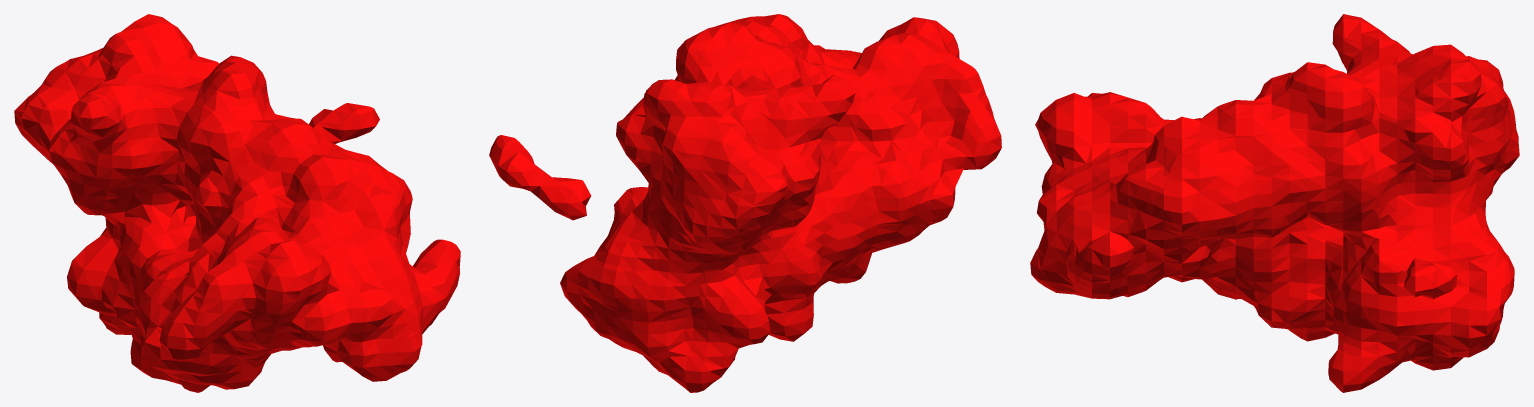
Rendered from Endoplasmin_Heat_shock_protein_coarse.dae.
3 renders of one model, left to right at view 1: azimuth 30°, elevation 25°; view 2: azimuth 150°, elevation 25°; view 3: azimuth 270°, elevation 25°, orthographic. The views are drawn at different scales.
Parts seen in each view (by area): view 1: Endoplasmin_Heat_shock_protein; view 2: Endoplasmin_Heat_shock_protein; view 3: Endoplasmin_Heat_shock_protein.
Part boxes in pixels (left/top/right/bottom): Endoplasmin_Heat_shock_protein: left=14, top=14, right=460, bottom=392; Endoplasmin_Heat_shock_protein: left=489, top=14, right=1001, bottom=392; Endoplasmin_Heat_shock_protein: left=1030, top=14, right=1519, bottom=392.
Size of the model in its own units: 105 by 84.75 by 123.
